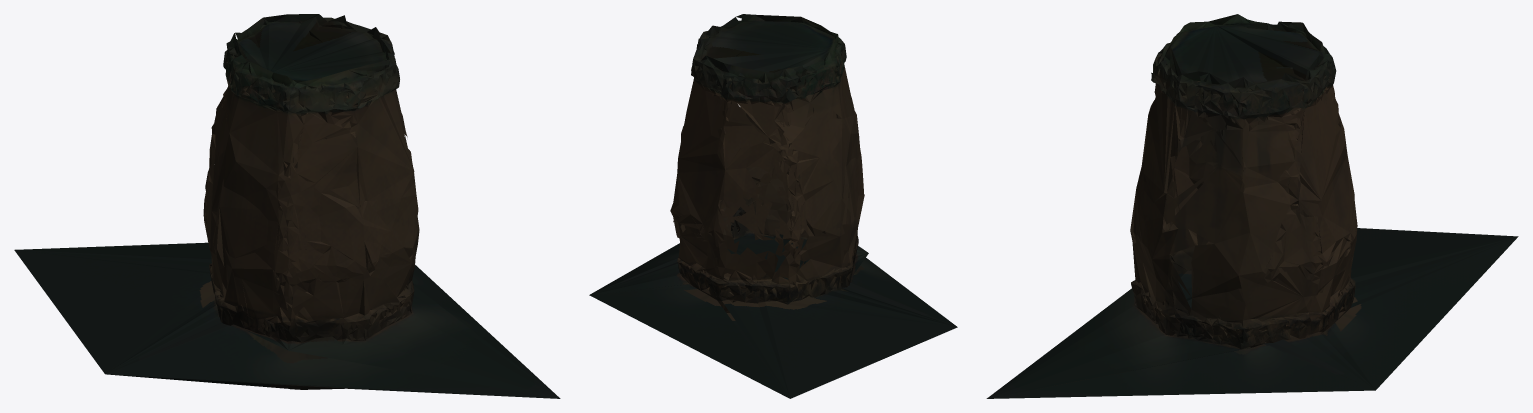
Rendered from barrel.glb.
3 views of the same model, side by side, from view 1: azimuth 30°, elevation 25°; view 2: azimuth 150°, elevation 25°; view 3: azimuth 270°, elevation 25° (orthographic). The views are drawn at different scales.
Size of the model in its own units: 0.5066 by 0.4362 by 0.6662.
1 material, 1 textured.
